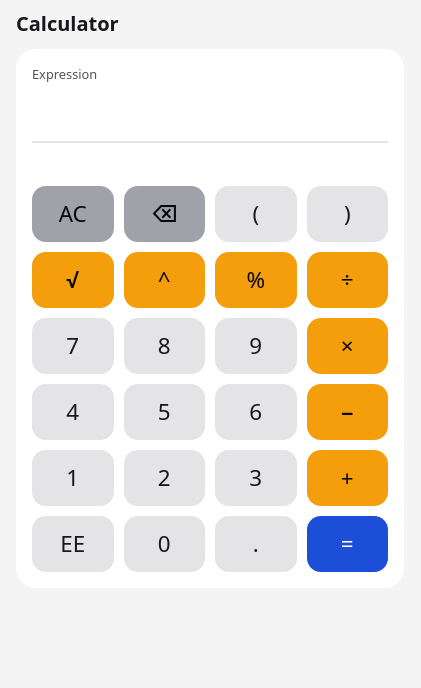
Test: calculation with the keypad › multiply: 6×7
expect the button named "equals" is shown: met, box [306,516,388,572]
What coordinates should you click on to do the following:
click the button "6"
I would click on:
 (256, 412)
Its box is [215,384,296,440].
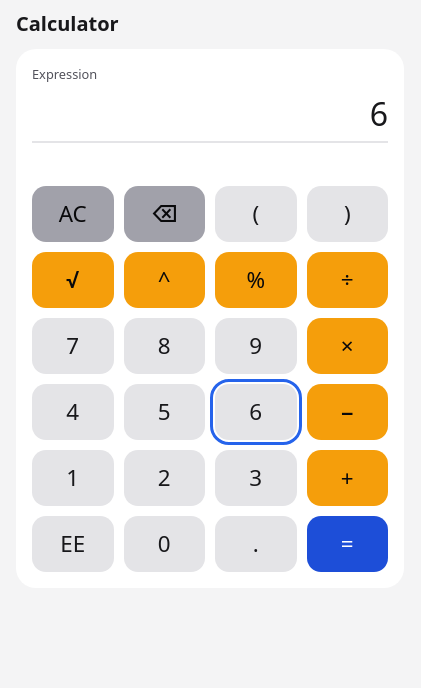
What coordinates should you click on to do the following:
click the button named "times"
I would click on:
 (347, 346)
Its box is [306,318,388,374].
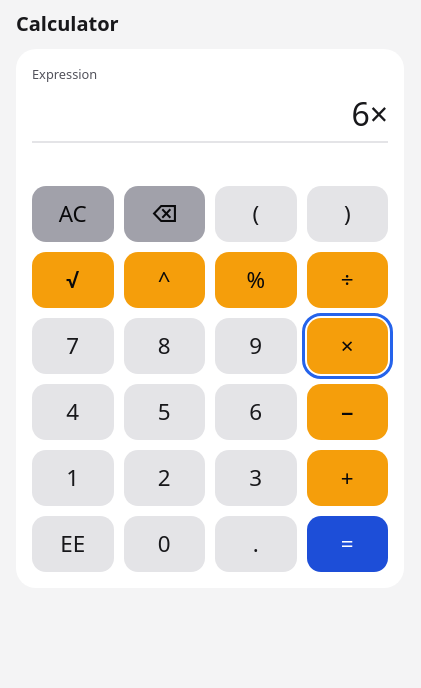
What coordinates should you click on to do the following:
click the button "7"
I would click on:
 (73, 346)
Its box is [32,318,114,374].
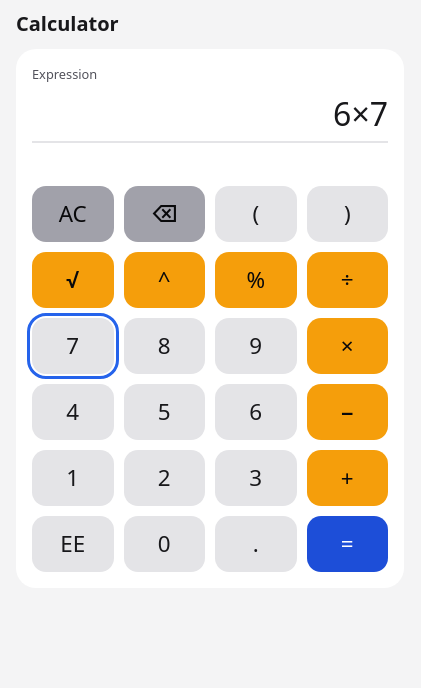
expect the field labelled "Expression" holds "6×7": met, box [32,87,388,143]
What coordinates should you click on to do the following:
click the button named "equals"
I would click on:
 (347, 544)
Its box is [306,516,388,572].
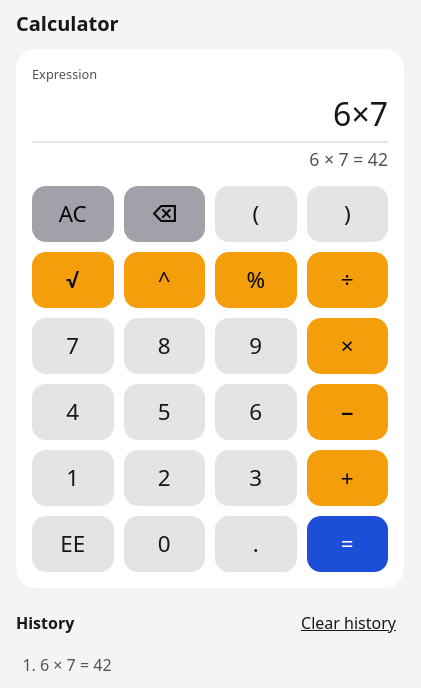
expect the message reads "6 × 7 = 42": met, box [309,147,388,171]
